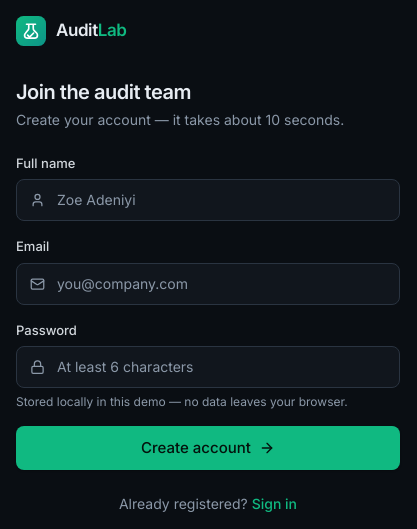
signup with email confirmation › shows why the confirmation email could not be resent
In the field labelled "Full name": {"x": 208, "y": 200} [16,179,400,221], type "Pending User"
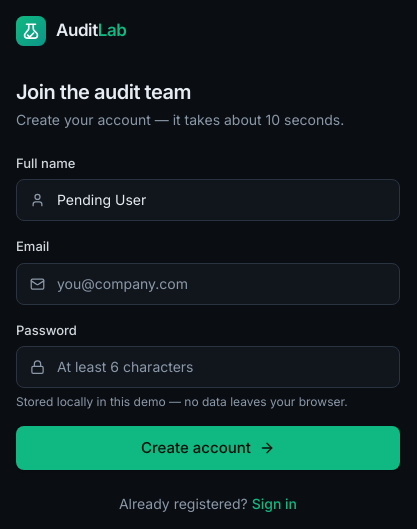
In the field labelled "Email": {"x": 208, "y": 284} [16,263,400,305], type "pending@example.com"
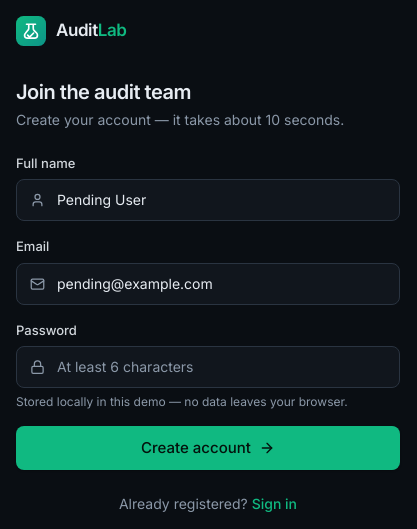
In the password field labelled "Password": {"x": 208, "y": 367} [16,346,400,388], type "pw123456"
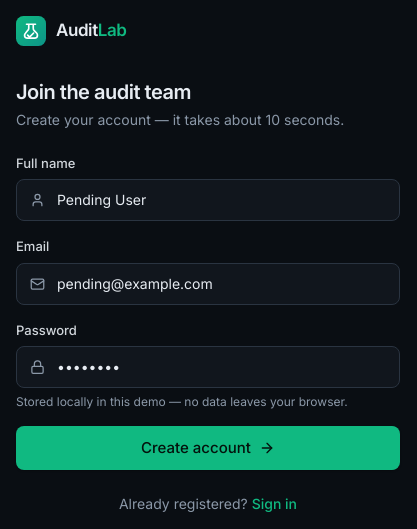
Click the button "Create account": {"x": 208, "y": 448} [16,426,400,470]
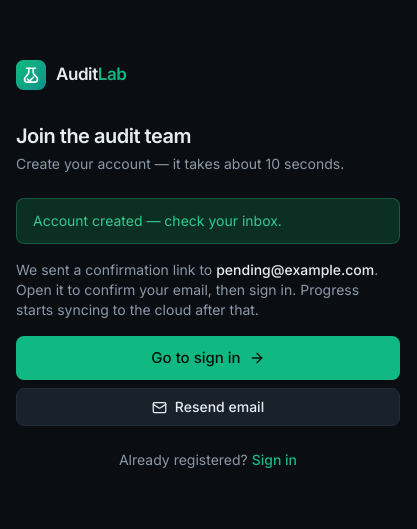
Result: the text "Account created — check your inbox." is shown at [33,212,282,229]
Click the button "Resend email": {"x": 208, "y": 407} [16,388,400,426]
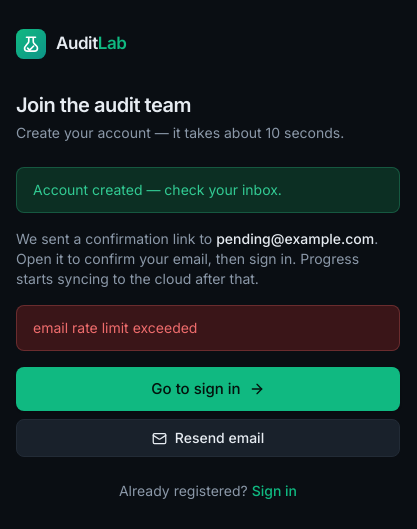
Result: the text "email rate limit exceeded" is shown at [33,319,198,336]
